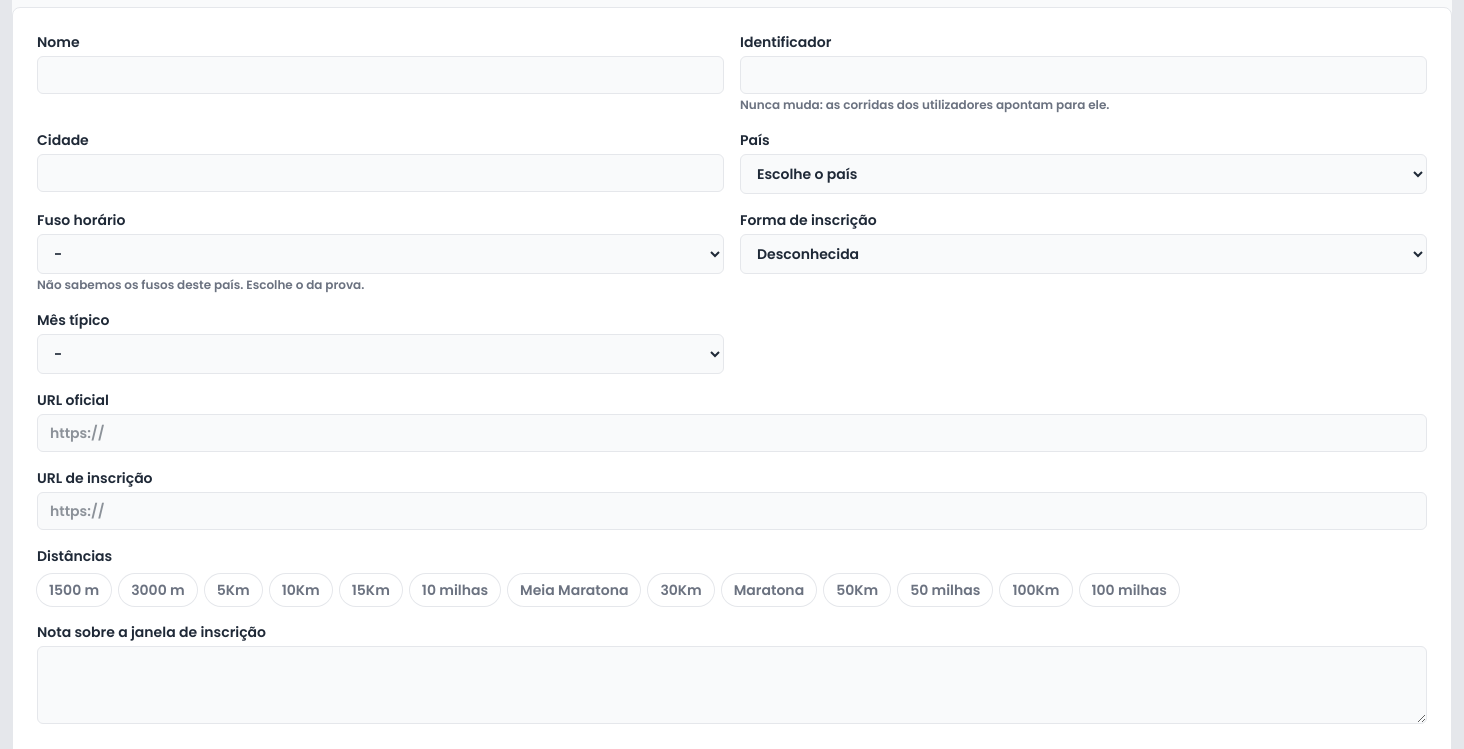
Test case: AdminCatalogForm › refuses an entry with no country chosen
Type "Maratona do Porto" into the field labelled "Nome".
click(380, 75); type("Maratona do Porto")  # box [37,56,724,94]
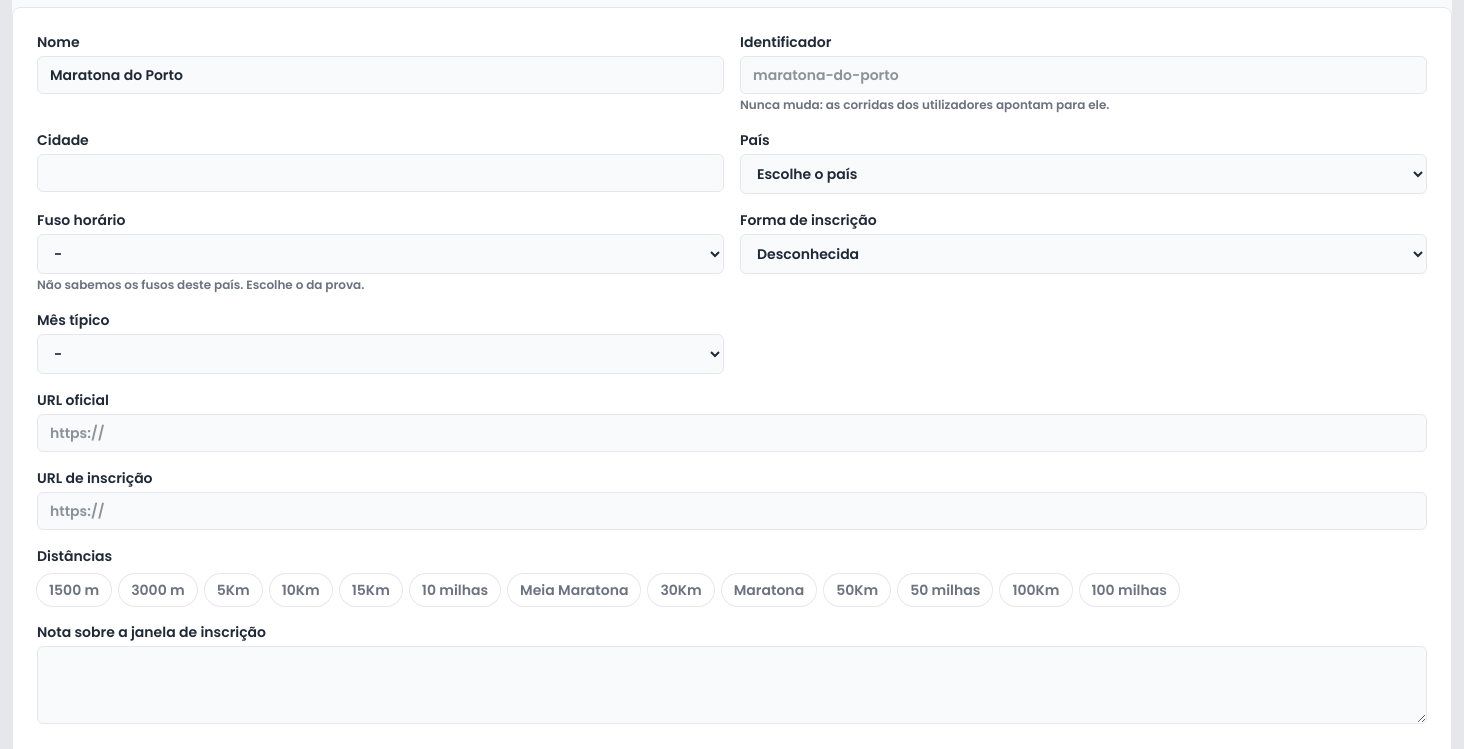
Type "Porto" into the field labelled "Cidade".
click(380, 173); type("Porto")  # box [37,154,724,192]
(page scrolled)
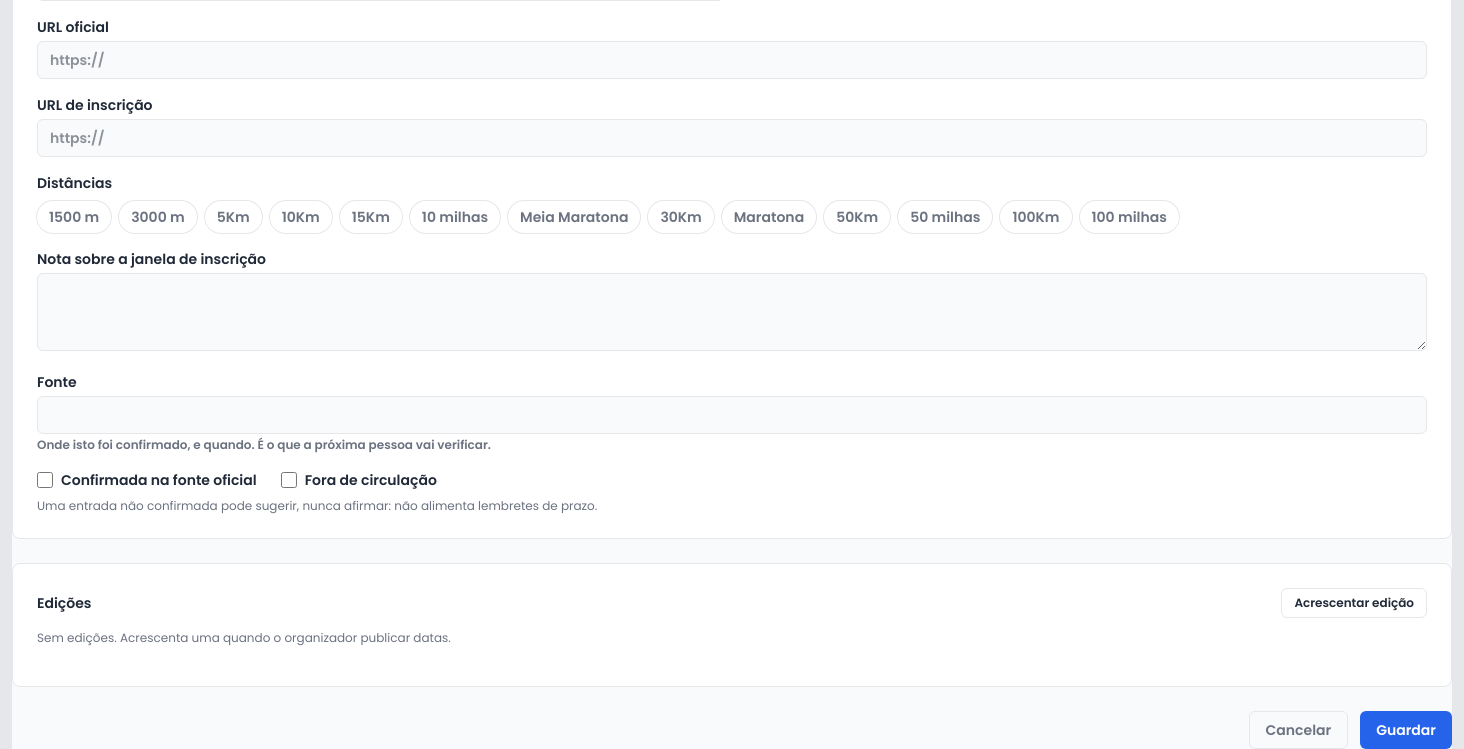
Type "x" into the field labelled "Fonte".
click(732, 415); type("x")  # box [37,396,1427,434]
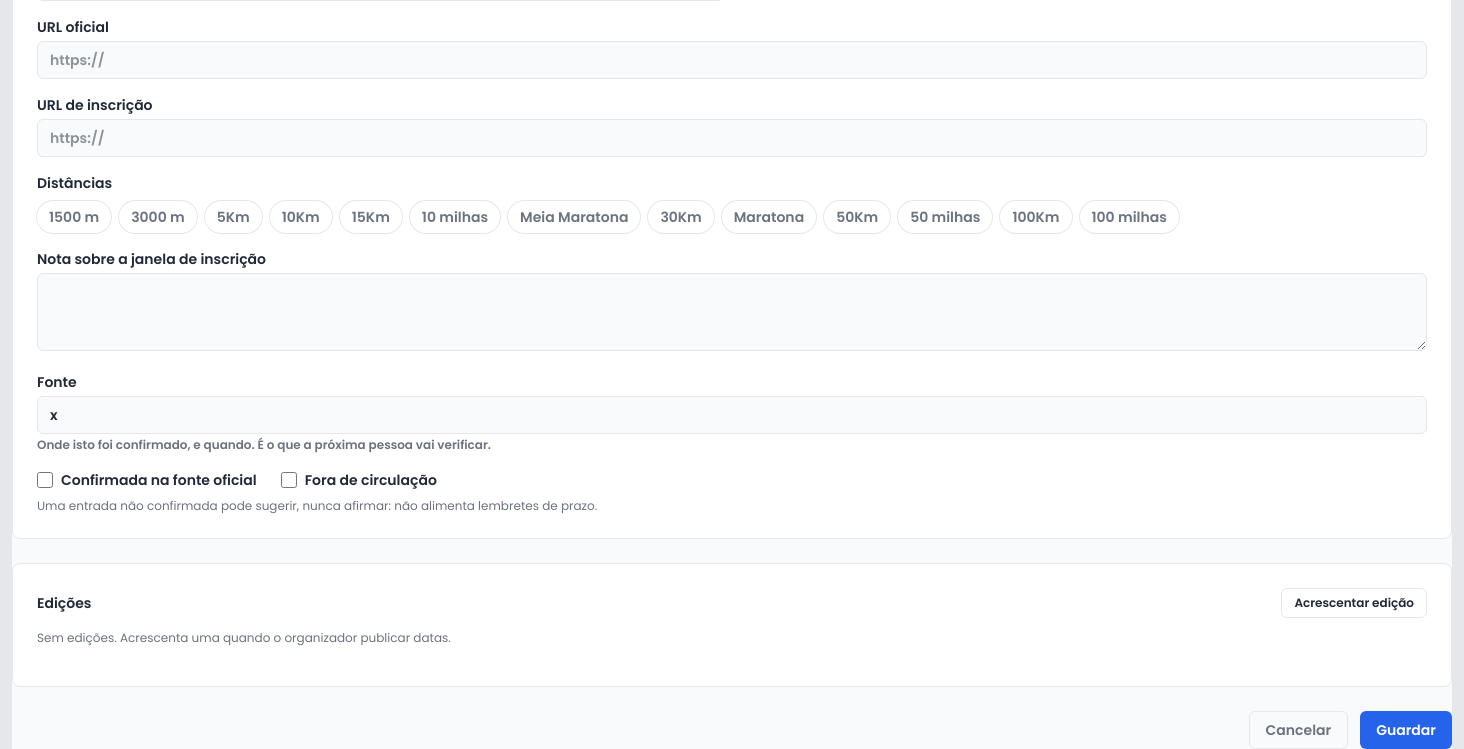
Click the text "Maratona".
click(769, 217)  # box [722,201,816,233]
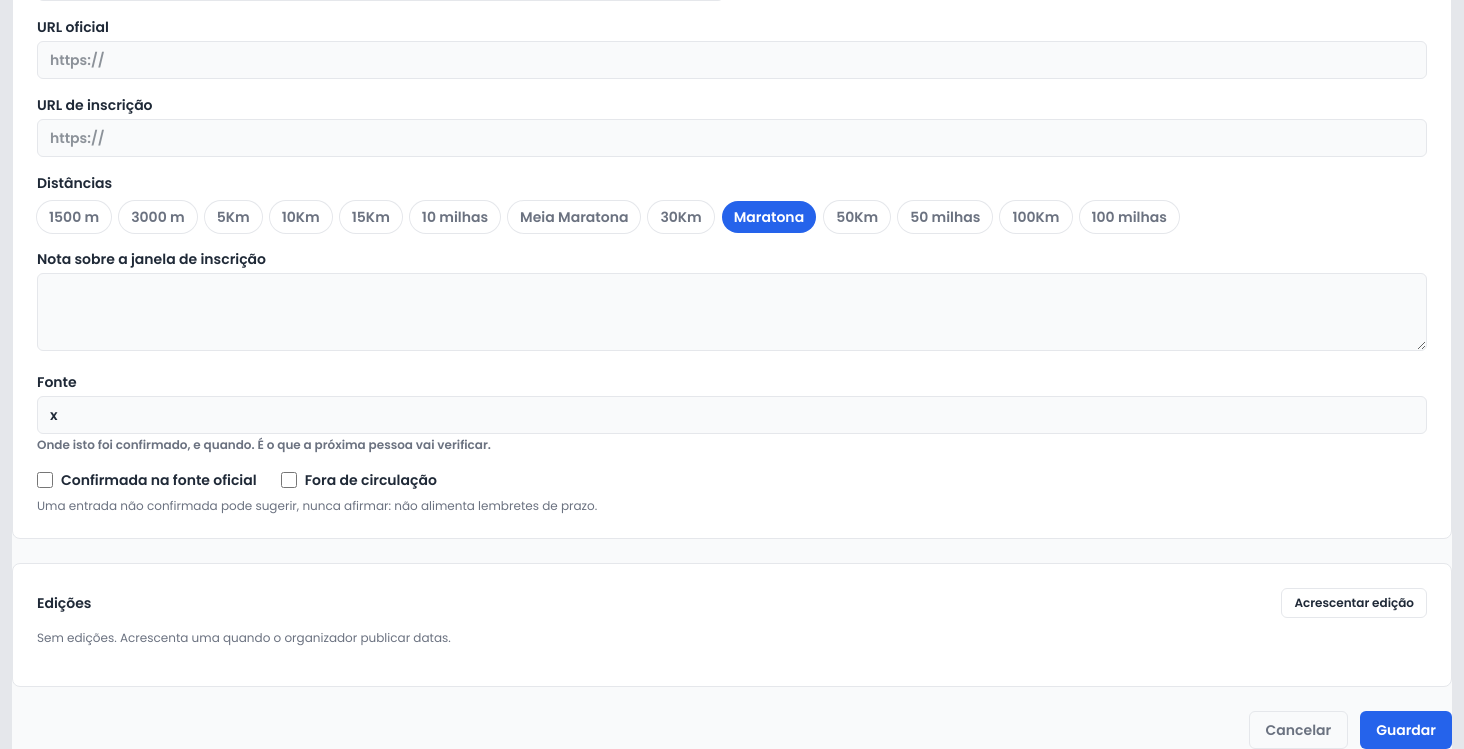
Click the button "Guardar".
click(1406, 730)  # box [1360,711,1452,748]
(page scrolled)
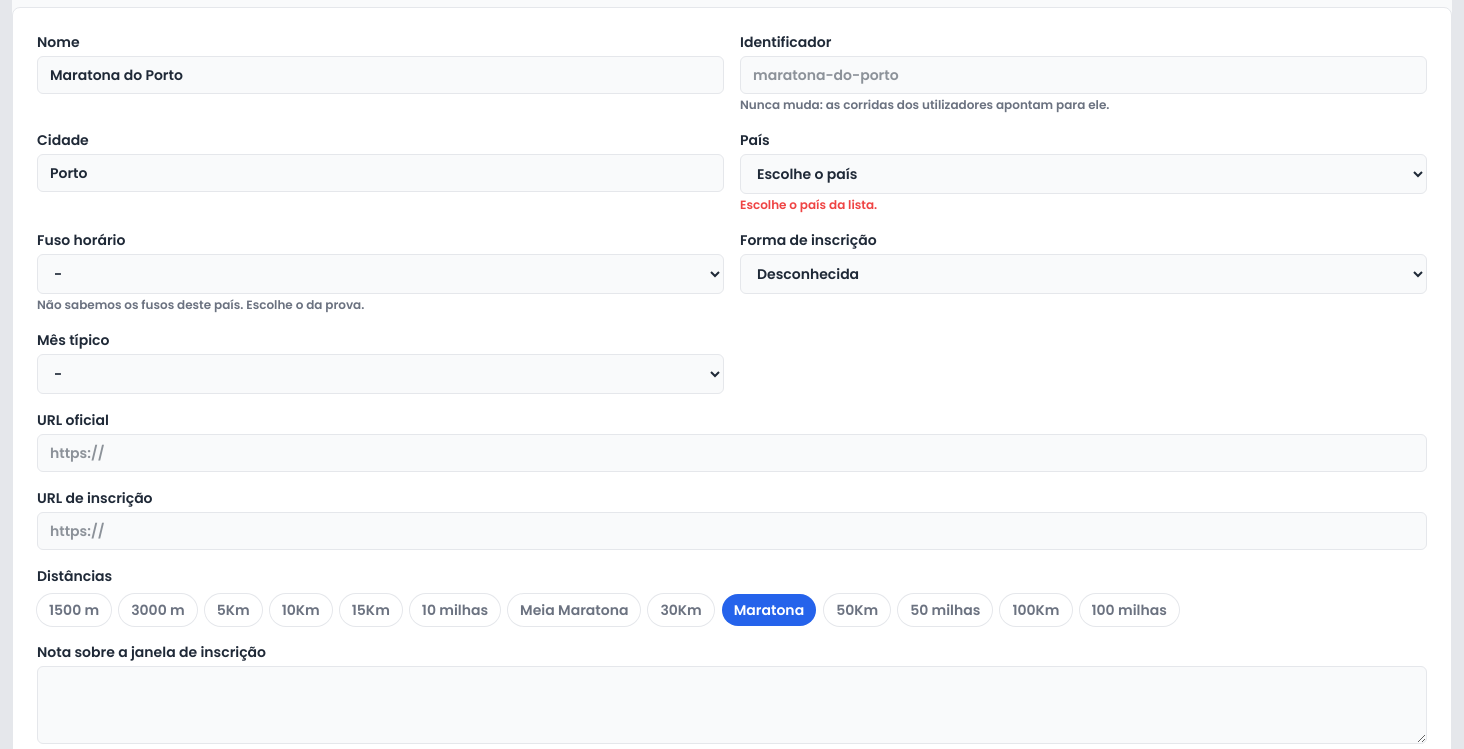
Result: the text "Escolhe o país da lista." is shown at [740,196,877,213]
